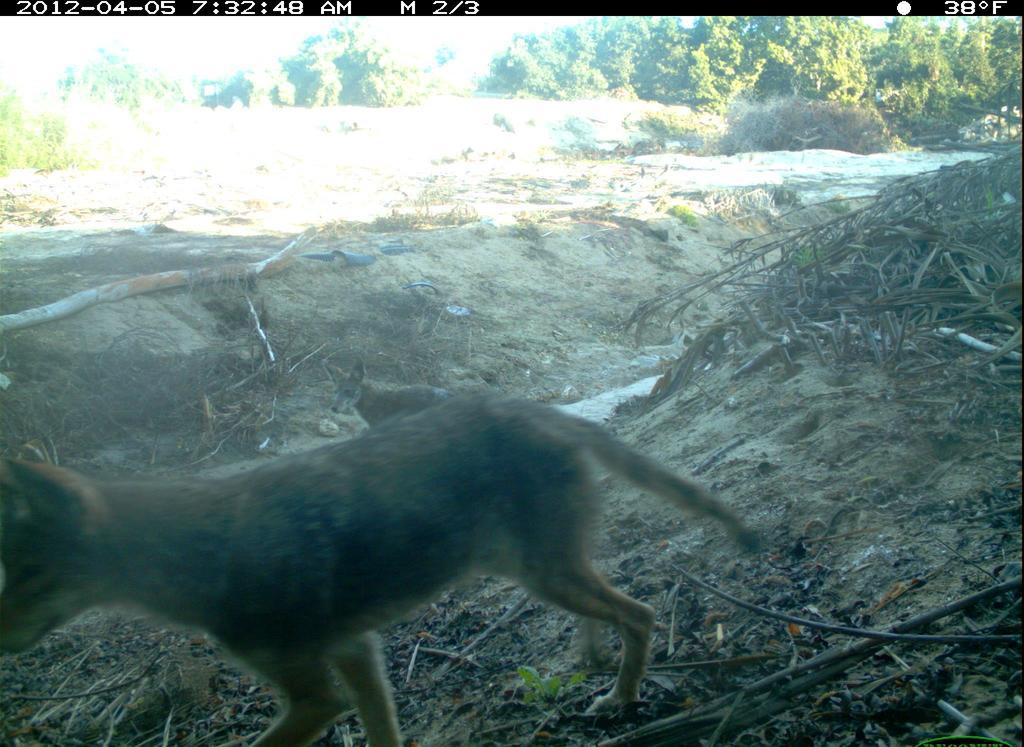coyote: (8, 381, 775, 747)
